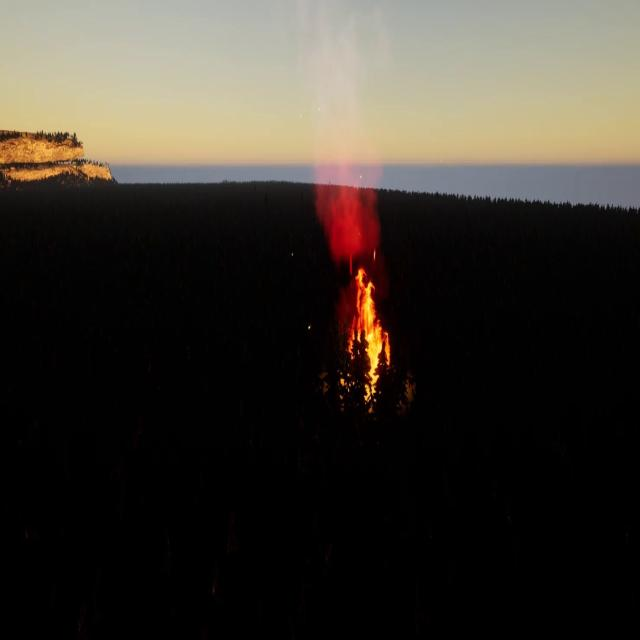fire: (343, 270, 392, 396)
smoke: (313, 150, 382, 266)
